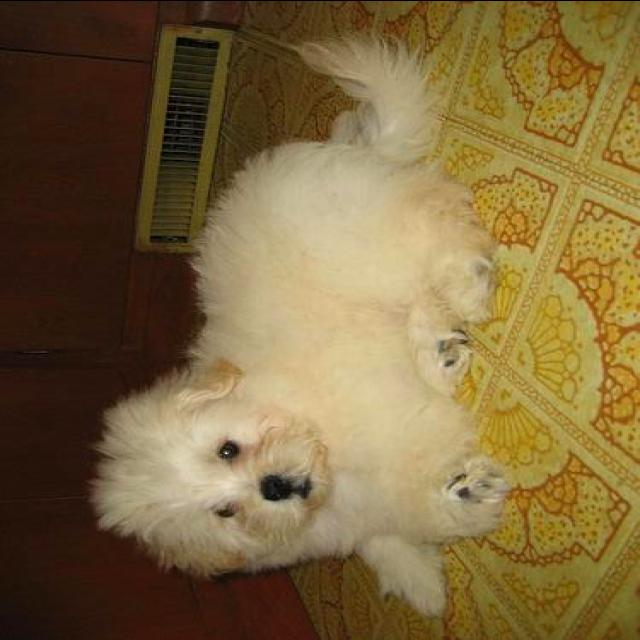pekinese: (84, 35, 512, 620)
